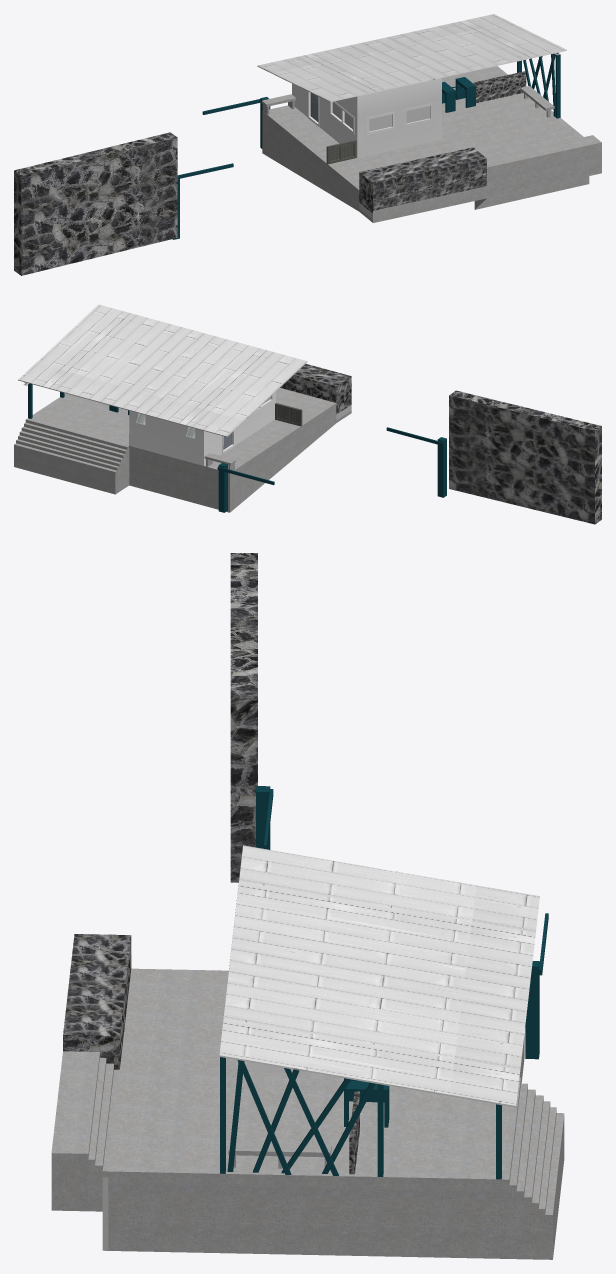
Rendered from porte_arriba_corregida.fbx.
The picture shows the model from 3 angles, top to bottom: view 1: azimuth 30°, elevation 25°; view 2: azimuth 150°, elevation 25°; view 3: azimuth 270°, elevation 25°; orthographic projection. The views are drawn at different scales.
Visible parts, largest first — view 1: polySurface2693, pCube49, polySurface2694, polySurface2658, polySurface2695, polySurface2654, polySurface2663, polySurface2685, polySurface2657; view 2: polySurface2693, polySurface2694, pCube49, polySurface2672, polySurface2681; view 3: polySurface2693, polySurface2694, pCube49, polySurface2658, polySurface2681, polySurface2663.
Boxes of the visible parts, box(x1,y1,x2,y2) form: polySurface2693: box(261, 66, 589, 222); pCube49: box(14, 132, 177, 275); polySurface2694: box(257, 14, 566, 102); polySurface2658: box(487, 135, 601, 198); polySurface2695: box(473, 71, 526, 103); polySurface2654: box(455, 77, 475, 107); polySurface2663: box(520, 86, 554, 117); polySurface2685: box(555, 54, 560, 118); polySurface2657: box(326, 140, 356, 164); polySurface2693: box(14, 364, 351, 512); polySurface2694: box(18, 304, 307, 436); pCube49: box(449, 390, 601, 524); polySurface2672: box(437, 437, 446, 497); polySurface2681: box(218, 463, 227, 512); polySurface2693: box(63, 934, 564, 1259); polySurface2694: box(219, 845, 539, 1107); pCube49: box(230, 553, 257, 882); polySurface2658: box(51, 1051, 113, 1211); polySurface2681: box(525, 961, 539, 1059); polySurface2663: box(228, 1142, 331, 1168).
Bounding box in the file's own units: 3.51 × 0.6982 × 1.52.
